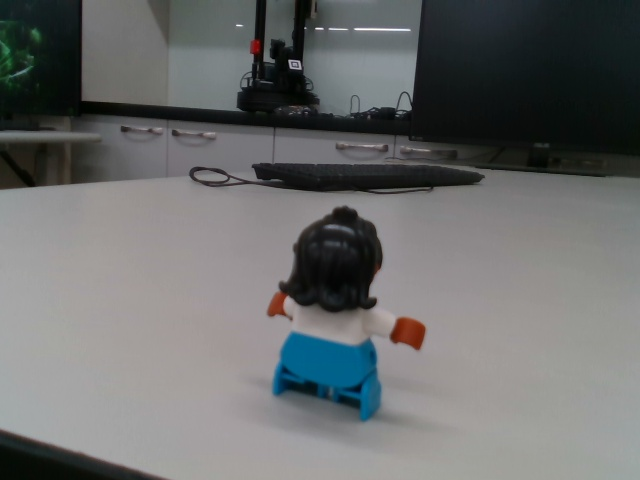people: (266, 203, 430, 423)
